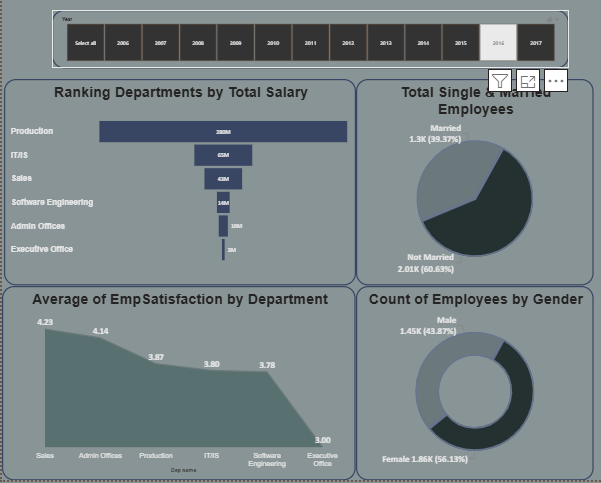

The page's visual inventory and layout, read from the dashboard file:
{"tool":"powerbi","page":{"name":"Departments & Employees Info","canvas":[1500,1200],"ordinal":2},"visuals":[{"type":"pieChart","title":"Total Single & Married Employees","fields":{"Category":["Status.Status"],"Y":["Count(HR main table.EmpID)"]},"box":[884,198,594,516],"z":0},{"type":"donutChart","title":"Count of Employees by Gender","fields":{"Y":["Count(HR main table.EmpID)"],"Category":["Gender.Gender"]},"box":[884,714,594,486],"z":1000},{"type":"funnel","title":"Ranking Departments by Total Salary","fields":{"Category":["Dep name.Dep name"],"Y":["Sum(HR main table.Salary)"]},"box":[4,198,880,516],"z":2000},{"type":"areaChart","title":"Average of EmpSatisfaction by Department","fields":{"Category":["Dep name.Dep name"],"Y":["Avg(HR main table.EmpSatisfaction)"]},"box":[0,714,884,486],"z":3000},{"type":"slicer","fields":{"Values":["HR main table.DateofHire.Variation.Date Hierarchy.Year"]},"box":[126,24,1292,146],"z":4000}]}

Visuals, with their boxes in screenshot pixels (x1, y1, x2, y2), scaled from the page's 1500x1200 canvas onto the 601x483 screenshot:
"Total Single & Married Employees" pieChart: {"x1": 354, "y1": 80, "x2": 592, "y2": 287}
"Count of Employees by Gender" donutChart: {"x1": 354, "y1": 287, "x2": 592, "y2": 482}
"Ranking Departments by Total Salary" funnel: {"x1": 2, "y1": 80, "x2": 354, "y2": 287}
"Average of EmpSatisfaction by Department" areaChart: {"x1": 0, "y1": 287, "x2": 354, "y2": 482}
slicer - HR main table.DateofHire.Variation.Date Hierarchy.Year: {"x1": 50, "y1": 10, "x2": 568, "y2": 68}
